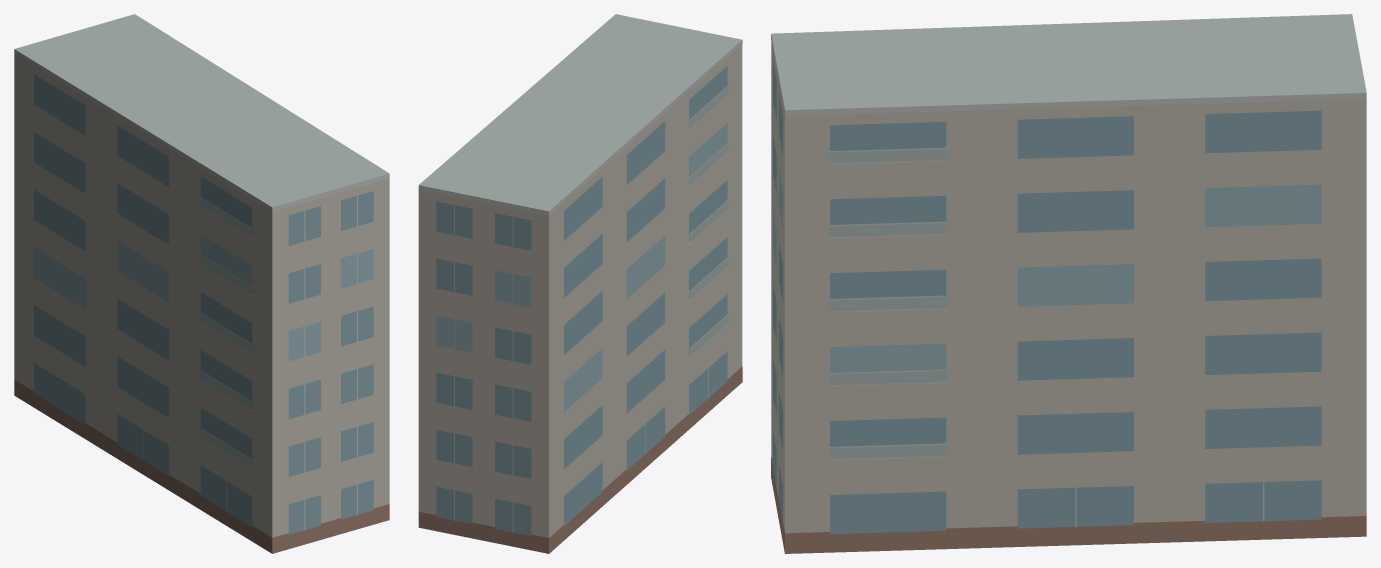
The model's file is survey-upis-32699750.glb.
3 renders of one model, left to right at view 1: azimuth 30°, elevation 25°; view 2: azimuth 150°, elevation 25°; view 3: azimuth 270°, elevation 25°, orthographic. The views are drawn at different scales.
Parts seen in each view (by area): view 1: survey-upis-32699750.tmp; view 2: survey-upis-32699750.tmp; view 3: survey-upis-32699750.tmp.
Boxes of the visible parts, <box> form: survey-upis-32699750.tmp: <box>14,14,389,553</box>; survey-upis-32699750.tmp: <box>418,14,742,553</box>; survey-upis-32699750.tmp: <box>771,14,1366,553</box>.
Bounding box in the file's own units: 8.52 × 18.3 × 22.28.
